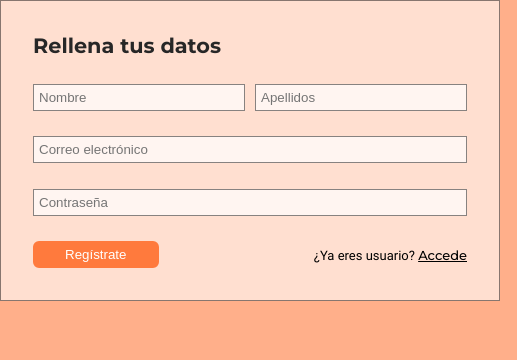
Test: Given a Login form component › when the user tries to register with a valid email and passwords, it should show a related message
This screenshot has width=517, height=360.
Type "example2@email.com" into the field with placeholder "Correo electrónico" at point(250, 150), box [33,136,467,163]
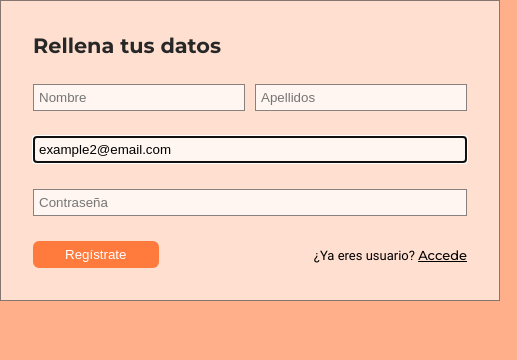
Type "password" into the password field with placeholder "Contraseña" at point(250, 202), box [33,189,467,216]
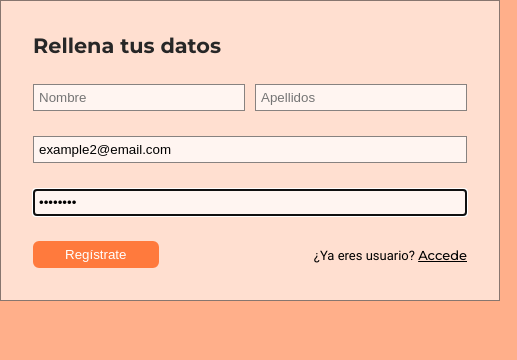
Type "Example" into the field with placeholder "Nombre" at point(139, 97), box [33,84,245,111]
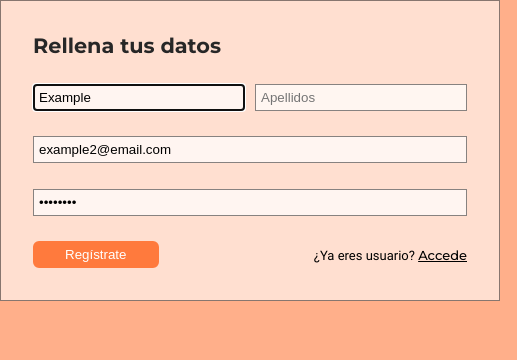
Type "Example Example" into the field with placeholder "Apellidos" at point(361, 97), box [255,84,467,111]
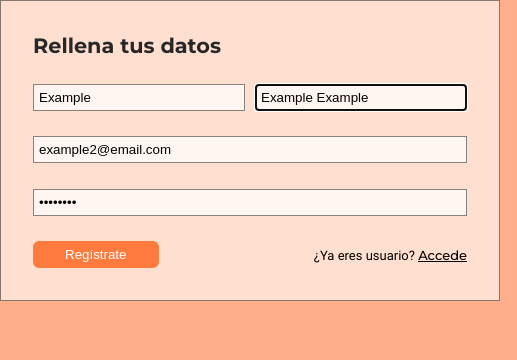
Click the button at point(96, 255), box [33,241,158,268]
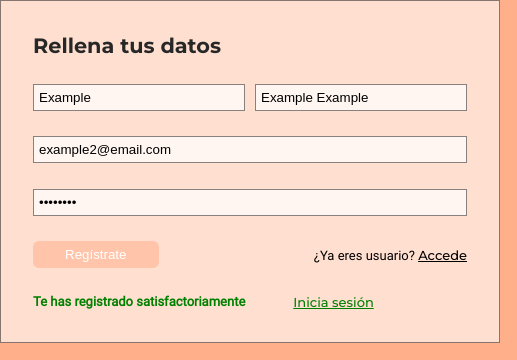
Result: the text "Te has registrado satisfactoriamente" is shown at [33,294,245,310]
